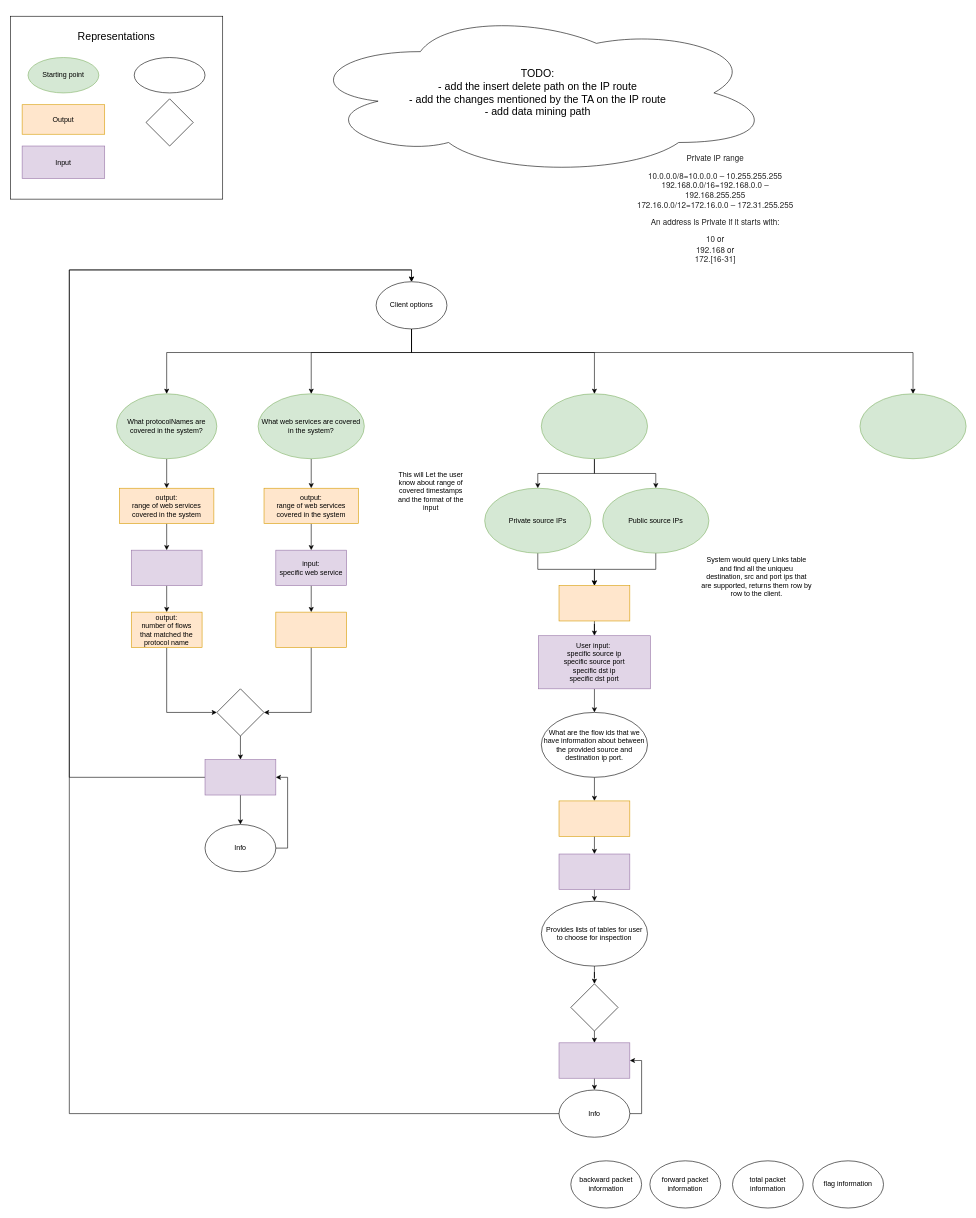
Image size: 976x1218. Some labels were removed from this diagram. The centre of each missing label's shape, as x and y in pixels:
data mining shit: [912,426]
input: attribute name from packet: [240,777]
input: Specific flow id: [594,871]
input: specific protocol name: [166,568]
input: table name: [594,1060]
IP LOGIC: [594,603]
output: List of flowids: [594,818]
output: number of flows that matched the web service: [311,630]
Searching based on IP: [594,426]
